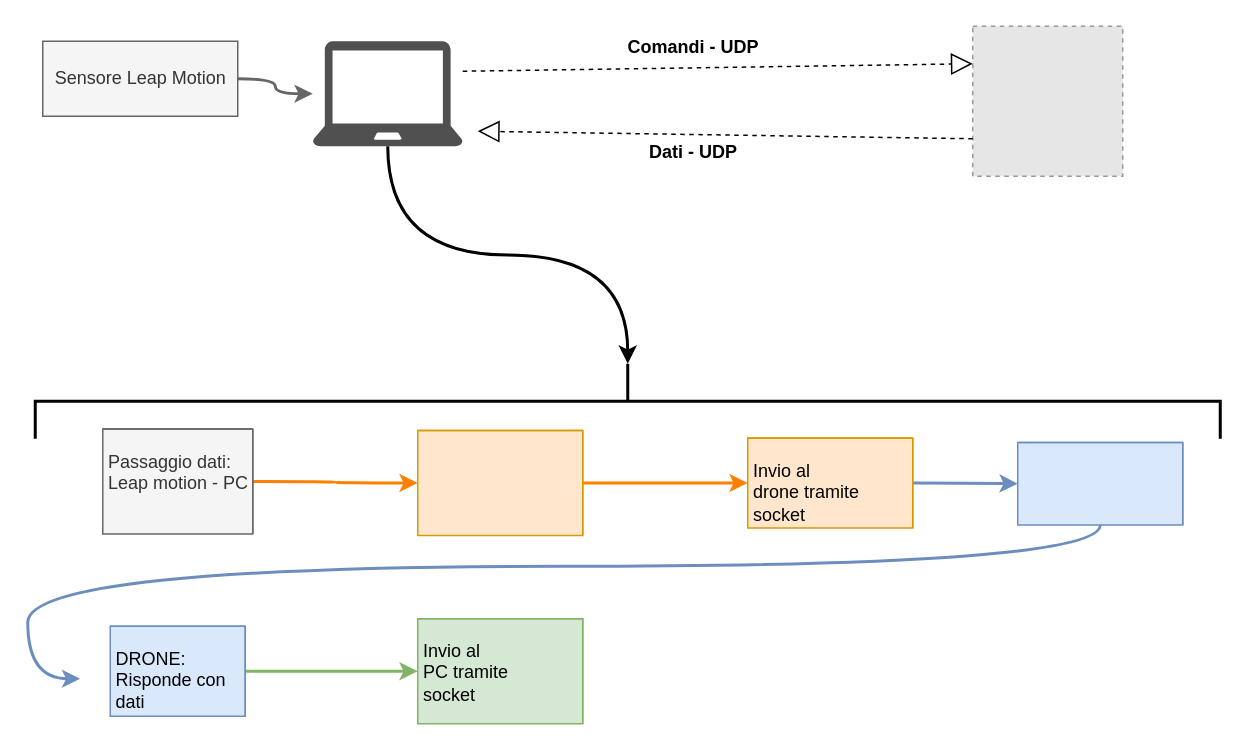
The diagram is 1247 pixels wide and 750 high, and some of its shapes have lost their labels. Grey dashed boxes stand in for pictures. The centre of each missing label's shape, as x and y in pixels:
Conversione dei dati: point (499, 482)
DRONE: esegue istruzioni: point (1099, 483)
